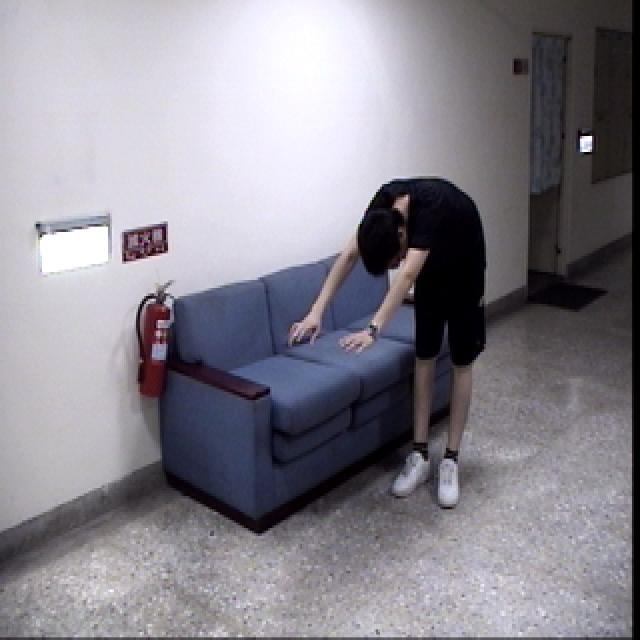bend: (276, 163, 497, 513)
